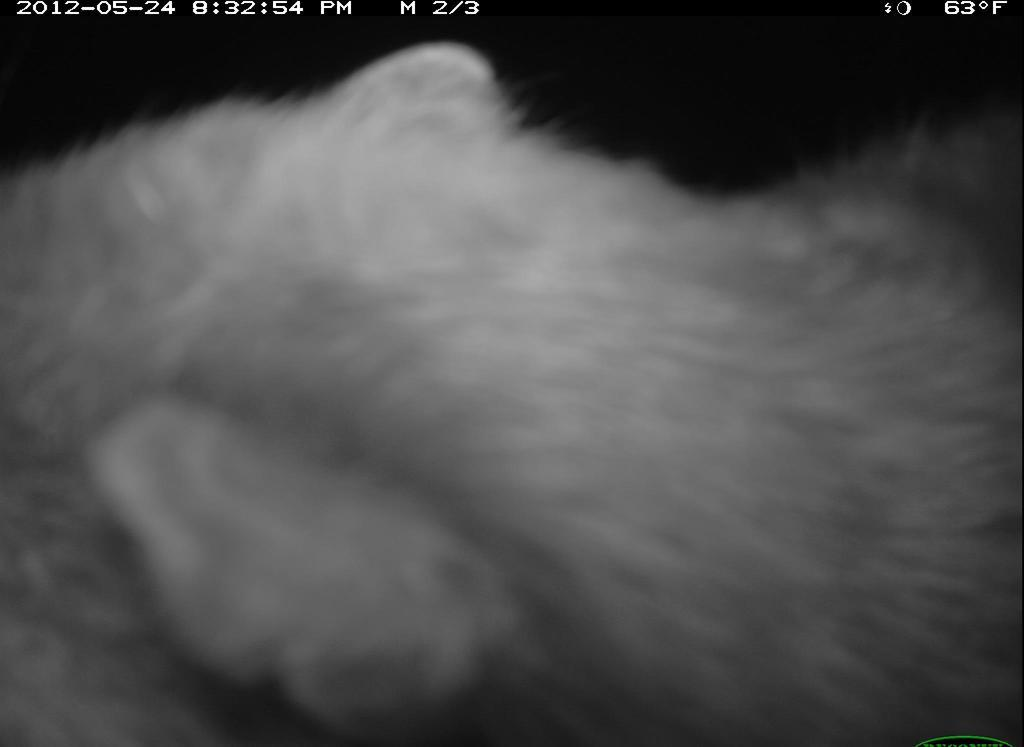raccoon: (2, 40, 1023, 747)
